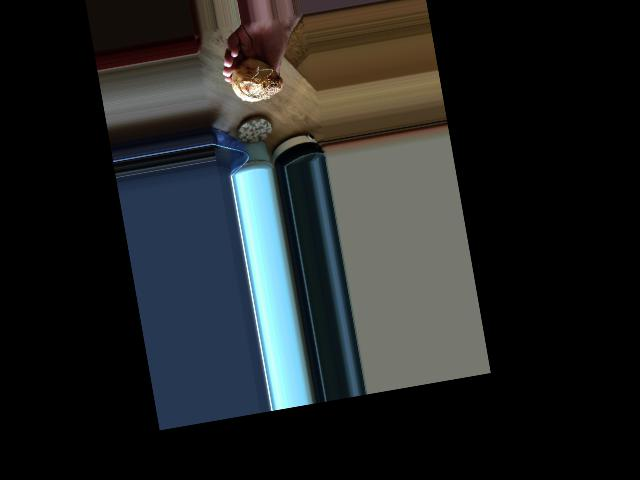onion: (226, 54, 283, 110)
